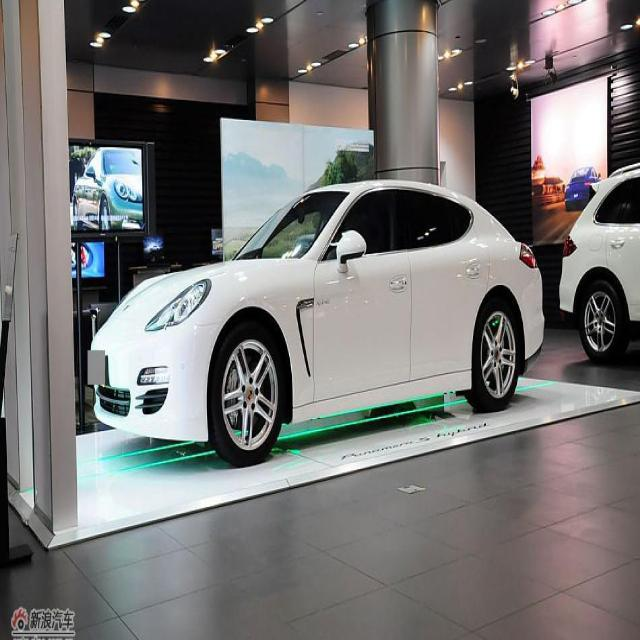back_left_side_light: (511, 234, 539, 274)
door: (411, 189, 493, 399)
front_bumper: (90, 316, 212, 445)
front_glass: (230, 186, 352, 264)
front_left_side_door: (310, 185, 414, 408)
front_left_side_light: (143, 276, 213, 334)
front_left_side_mirror: (335, 228, 367, 275)
rear_bumper: (517, 266, 545, 375)
wheel: (213, 322, 284, 466), (469, 296, 522, 408)
